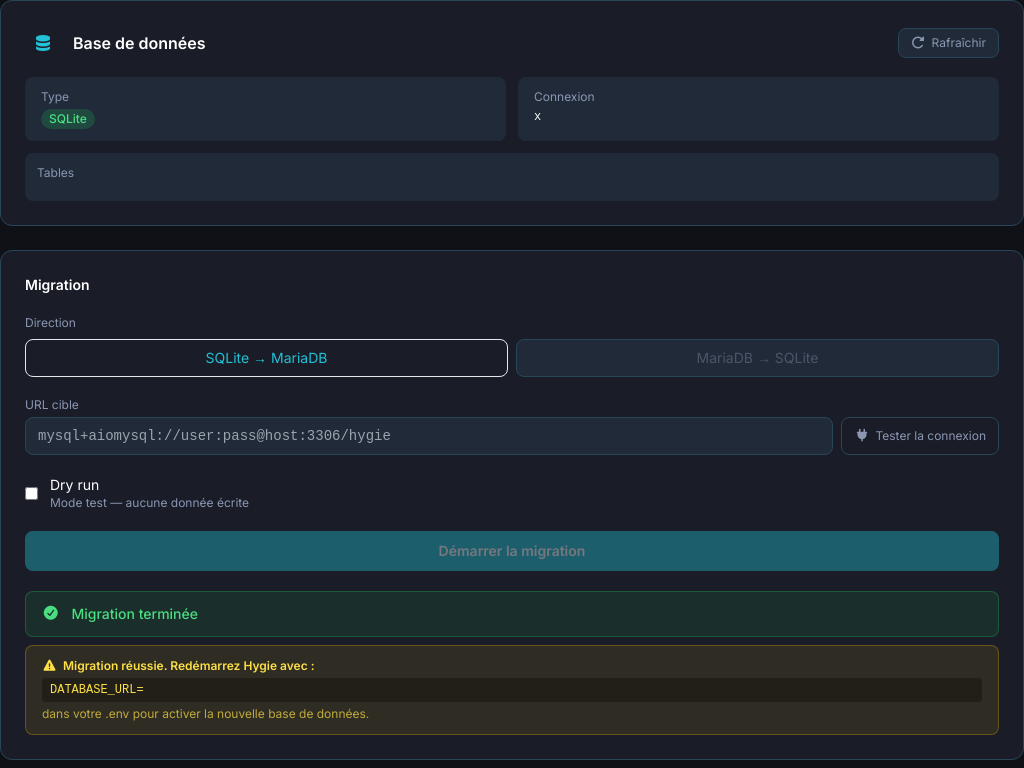
Test: DatabaseTab › testConnection shows the server-provided error detail on failure
Type "bad-url" into the field with placeholder "mysql+aiomysql://user:pass@host:3306/hygie".
click(429, 436); type("bad-url")  # box [25,417,833,455]
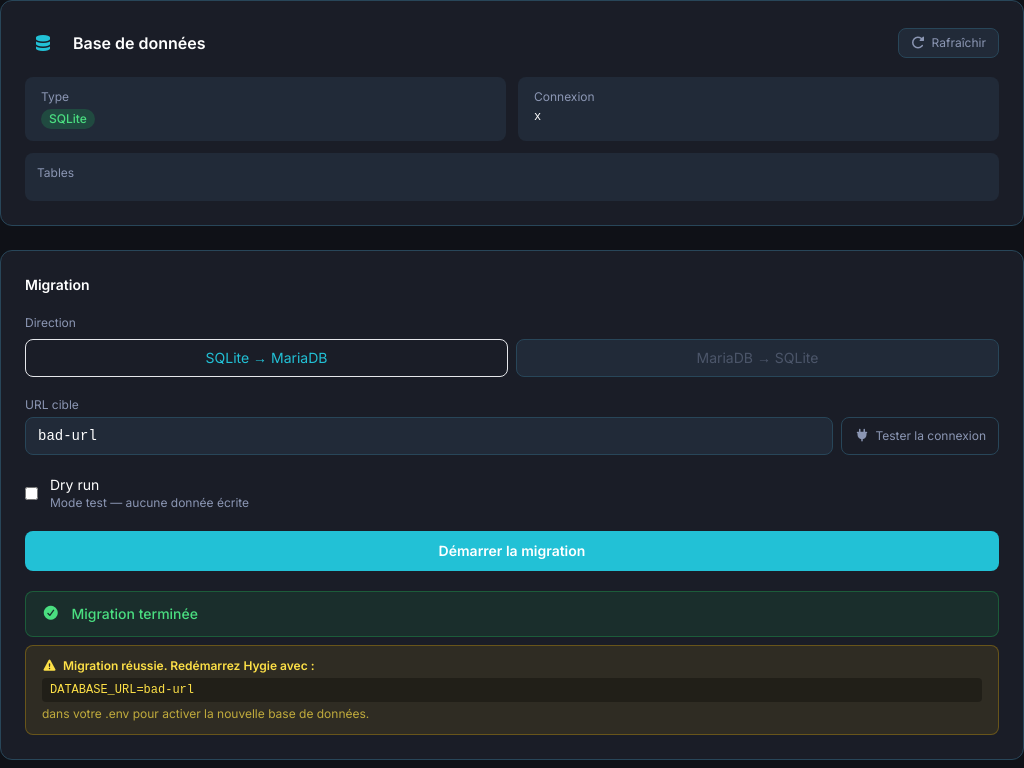
Click the button "Tester la connexion".
click(920, 436)  # box [841,417,999,455]
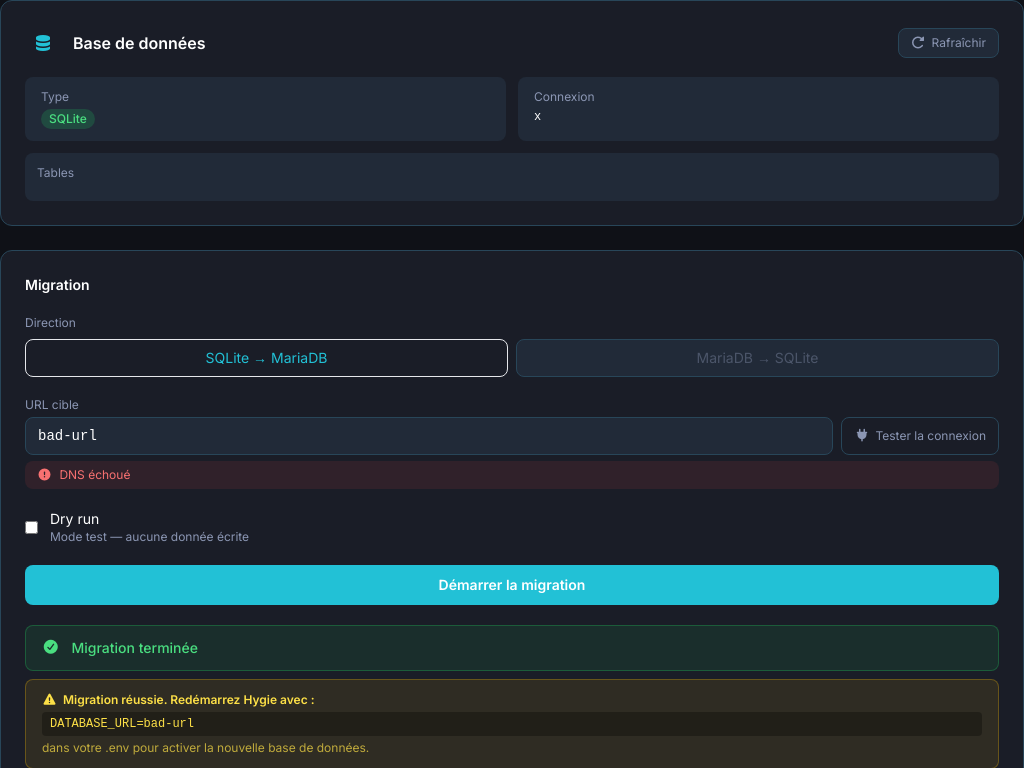
Expected: the text "DNS échoué" is shown, [25,461,999,489]
